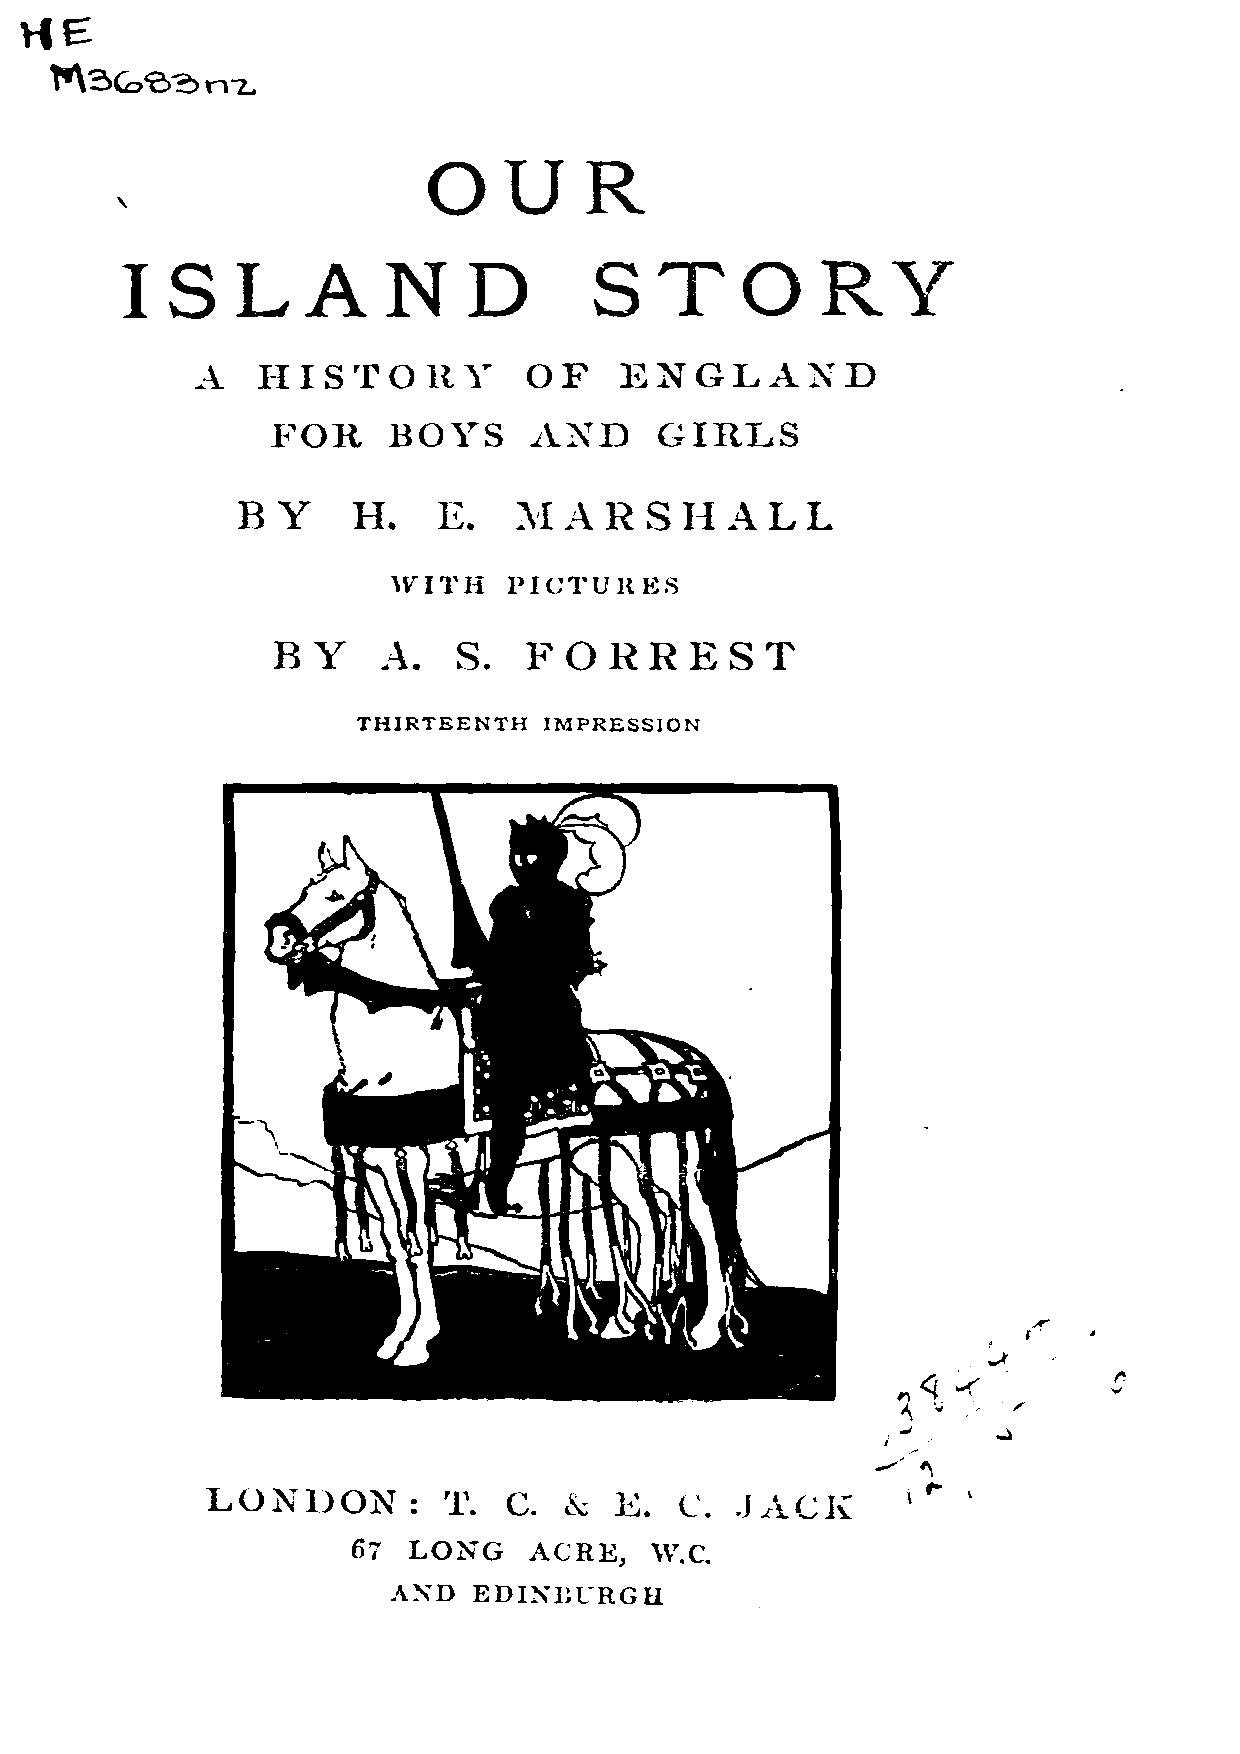author: (234, 498, 836, 533)
title: (114, 156, 954, 322)
